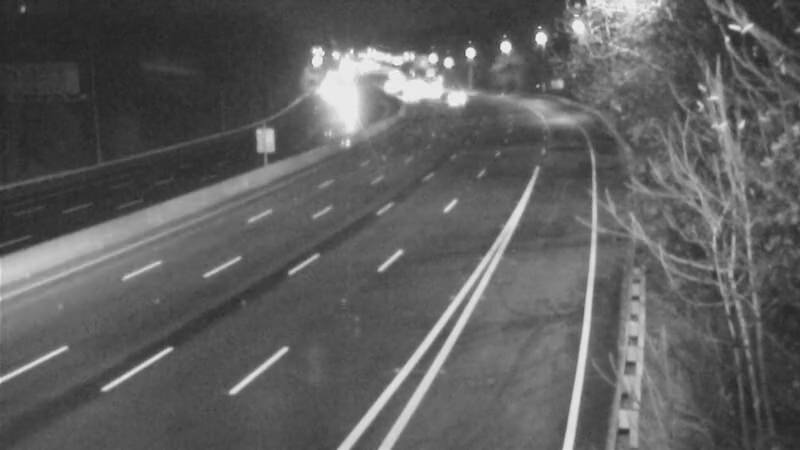vehicle: (426, 71, 476, 121), (384, 69, 434, 119)
